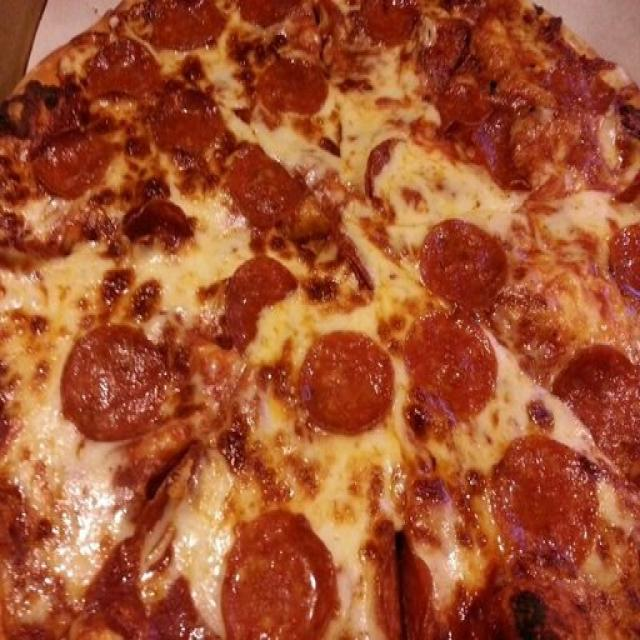Pepperoni: (234, 518, 336, 640), (491, 440, 585, 564), (556, 344, 640, 476), (403, 303, 495, 412), (64, 331, 154, 437), (419, 222, 513, 312), (305, 331, 389, 427), (447, 94, 517, 188), (221, 258, 298, 338), (32, 121, 112, 195), (230, 152, 304, 222), (157, 95, 226, 158), (260, 56, 330, 113), (87, 44, 161, 94), (154, 3, 228, 52), (362, 0, 418, 44), (610, 223, 640, 284), (236, 0, 300, 26)
Pizza: (0, 0, 640, 640)
